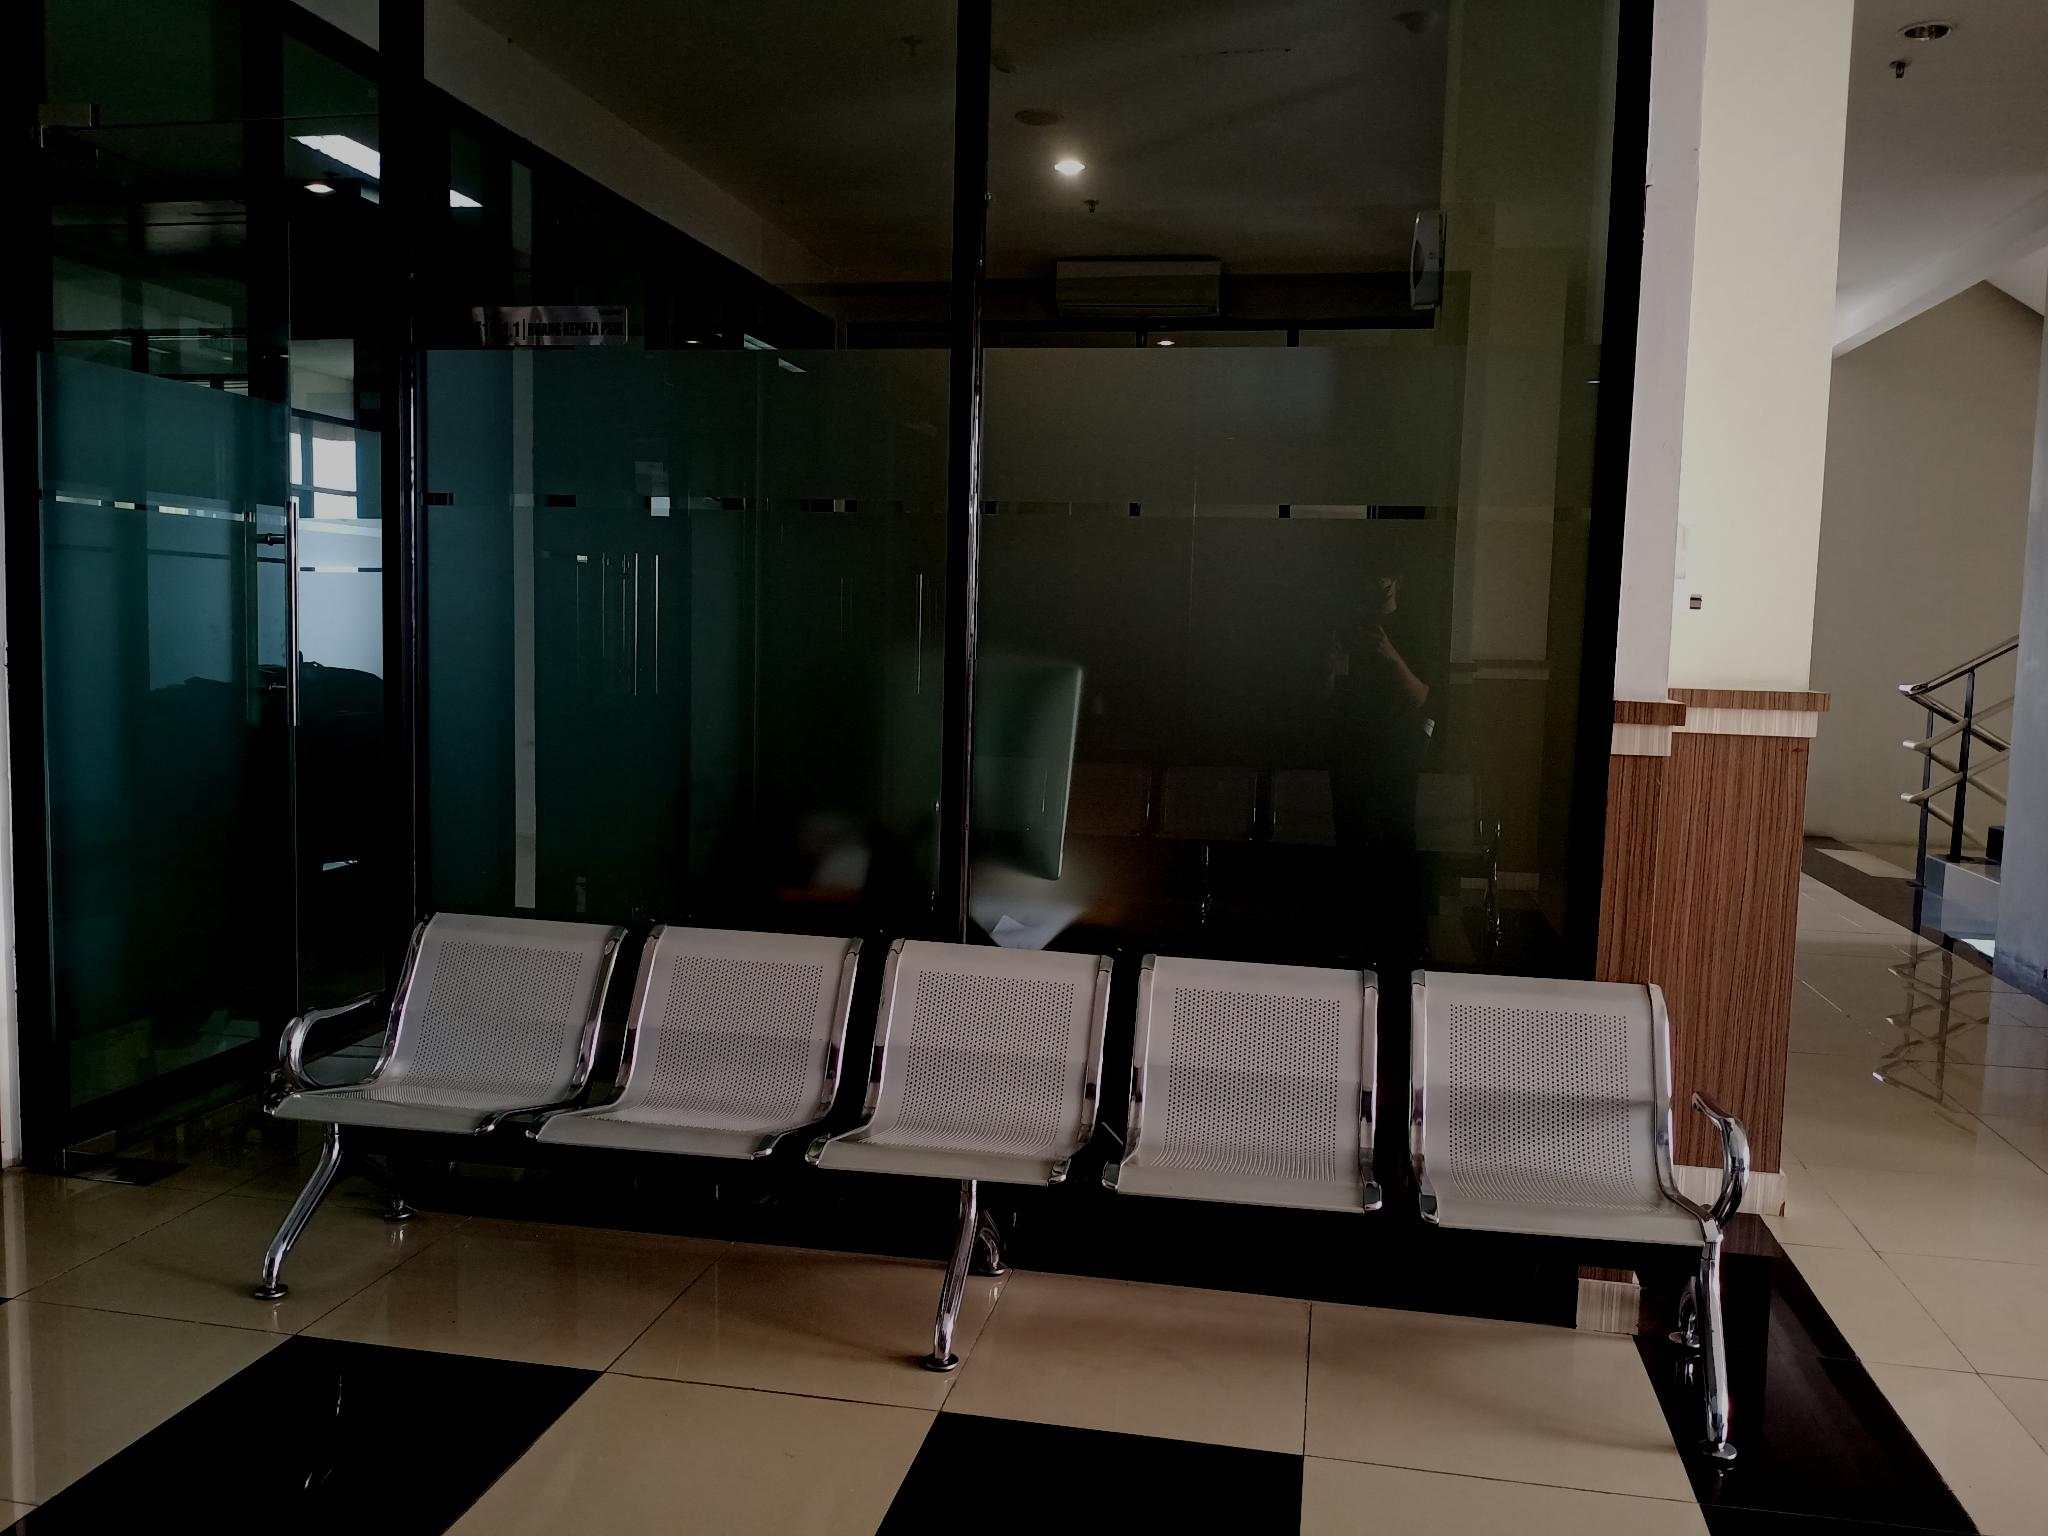plate: (466, 303, 632, 349)
